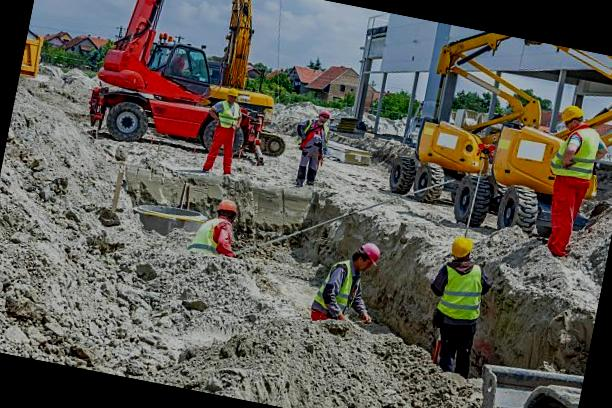helmet: (449, 232, 476, 262), (558, 98, 586, 124), (360, 238, 386, 264), (220, 197, 238, 212)
person: (528, 99, 612, 264), (413, 231, 502, 386), (310, 232, 386, 332), (184, 188, 252, 260), (200, 82, 250, 176), (286, 105, 338, 195)
